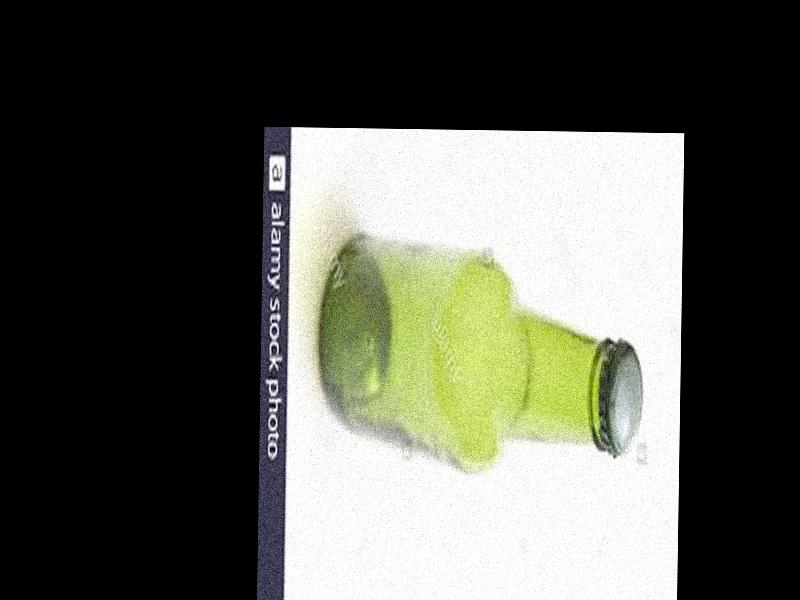Beer: (317, 235, 645, 458)
